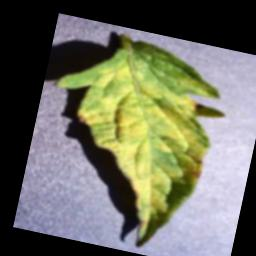Leaf_Mold: (22, 24, 239, 256)
